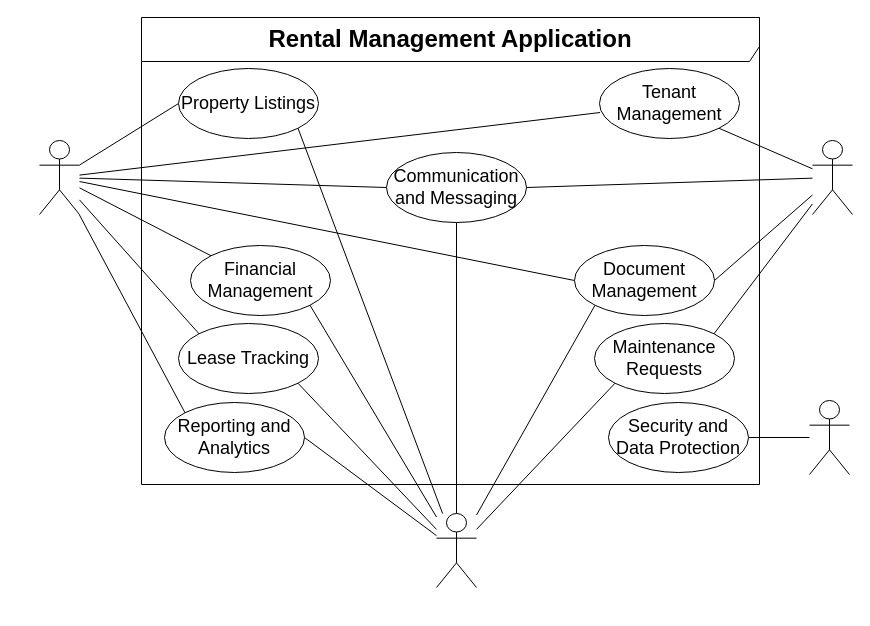
The diagram is 870 pixels wide and 626 high, and some of its shapes have lost their labels. The centre of each missing label's shape, as x and y in pixels:
Property Managers: [456,550]
Property Owner: [59,177]
Systems: [829,437]
Tenants: [832,177]
